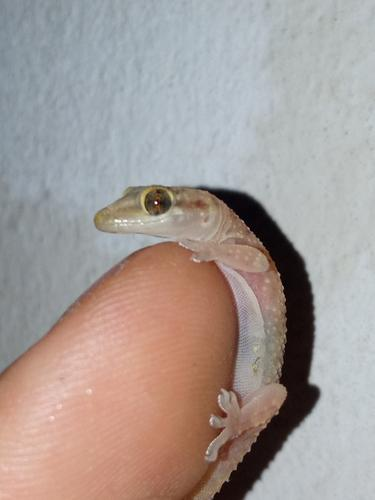lizard: (97, 133, 375, 465)
